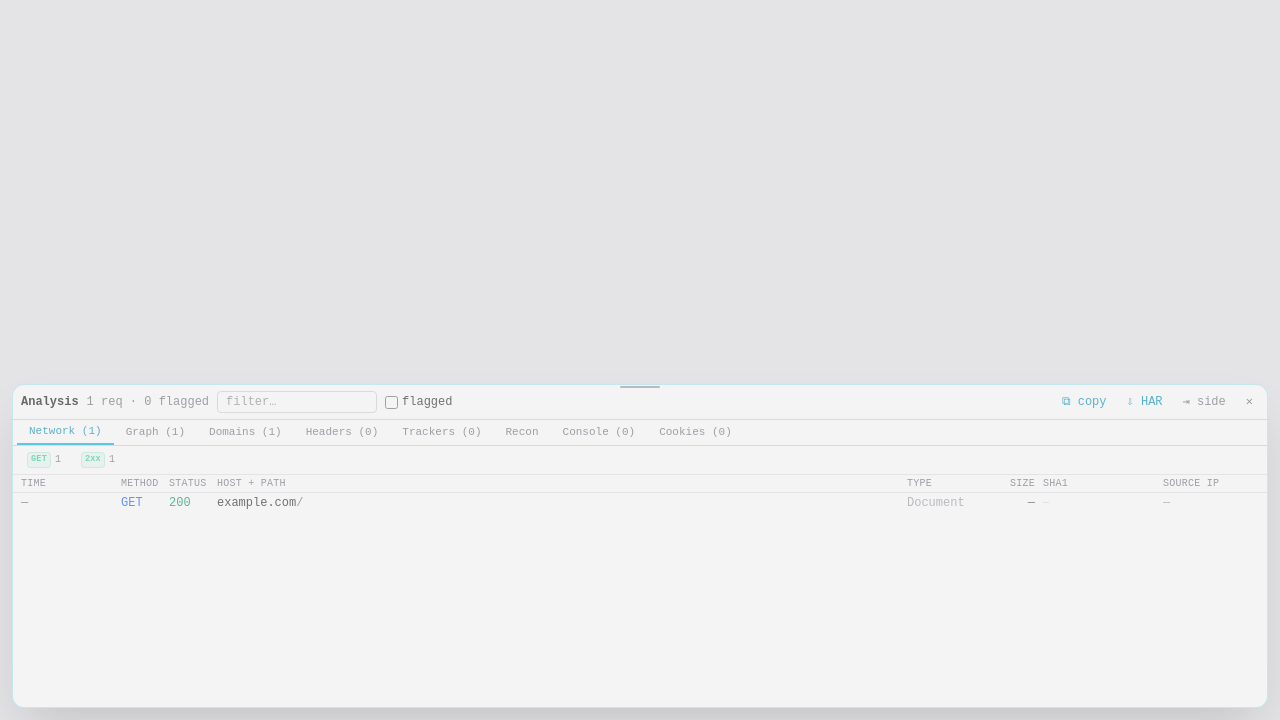
Test: IsolaNetworkPanel redirect chain › shows each hop with its status code in the expanded row
Click the text "example.com".
click(257, 503)  # box [217, 496, 296, 510]
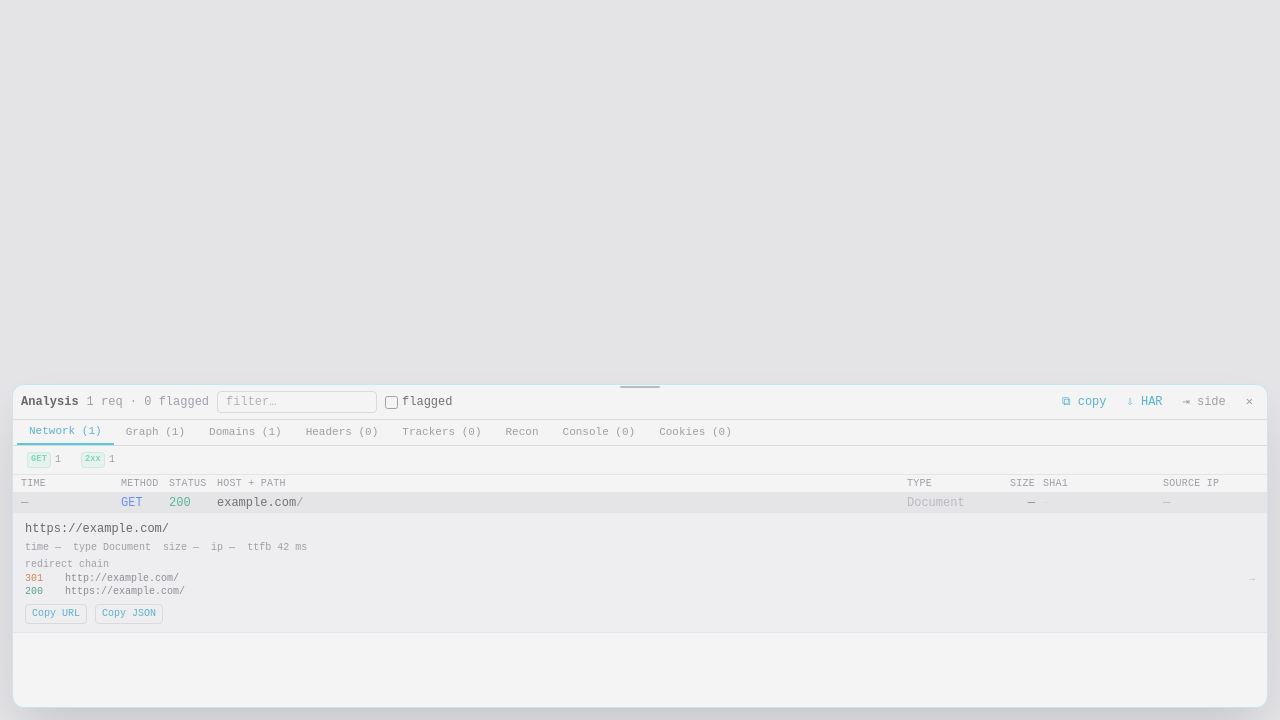
Now the text "redirect chain" is shown, box [25, 559, 109, 570]
Now the text "301" is shown, box [25, 573, 43, 584]
Now the text "ttfb 42 ms" is shown, box [247, 541, 307, 554]
